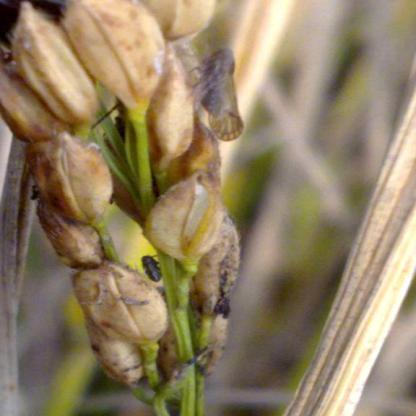brown-planthopper: (198, 46, 246, 141)
